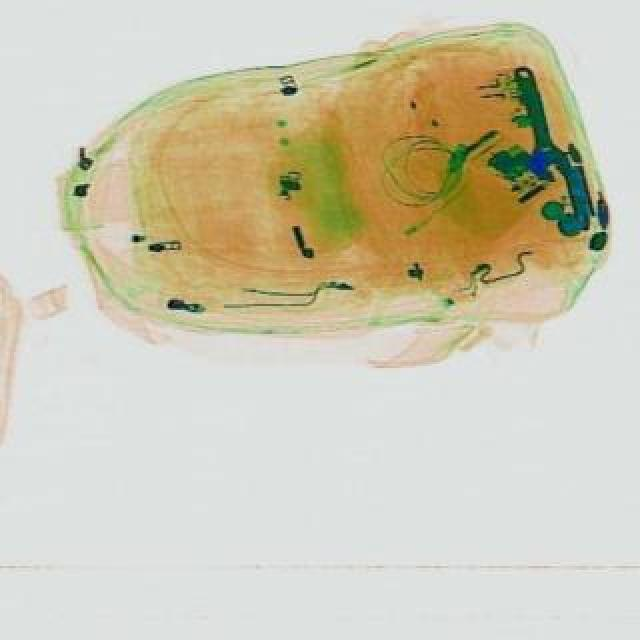scissors: (502, 64, 578, 190)
